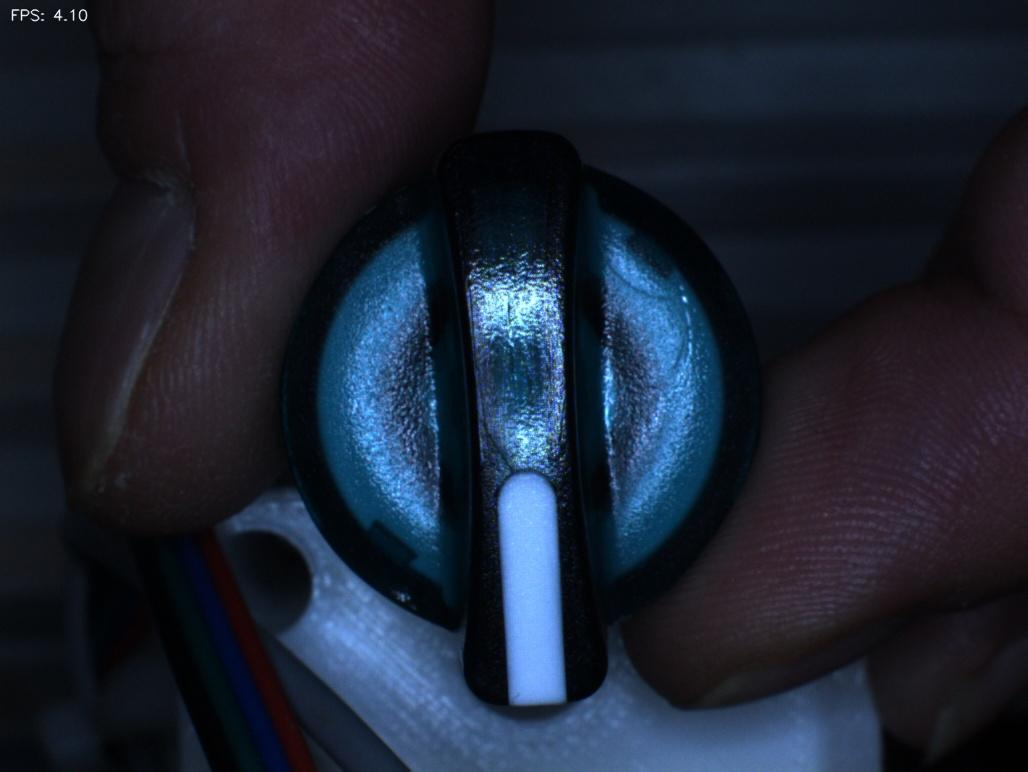Choc: (364, 556, 447, 637)
